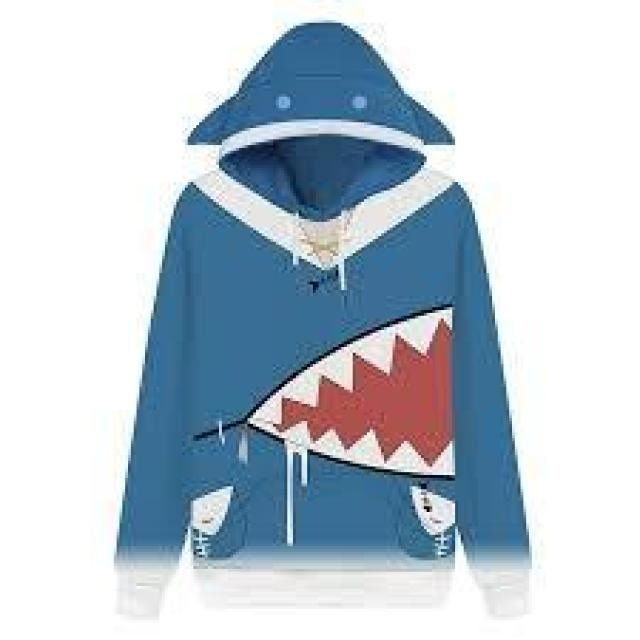sweater: (124, 31, 505, 606)
